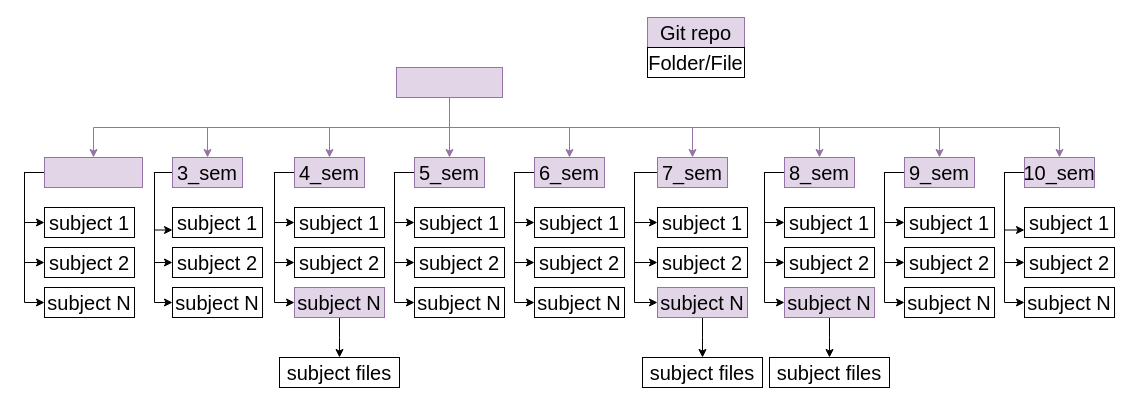
Image size: 1132x405. Some labels were removed from this diagram. Here are the shapes that lost their labels. From the top down, the centre of each, then its label:
At (x=449, y=82): "Universety".
At (x=93, y=172): "1-2_sem".
